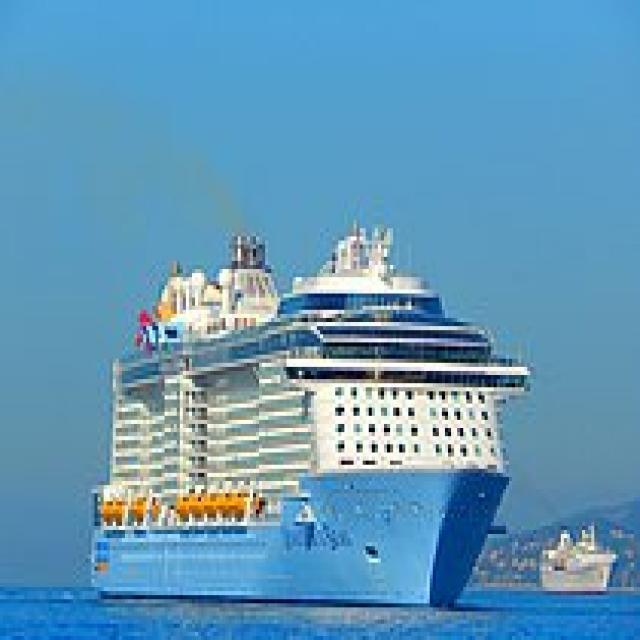Ship: (80, 205, 528, 609)
